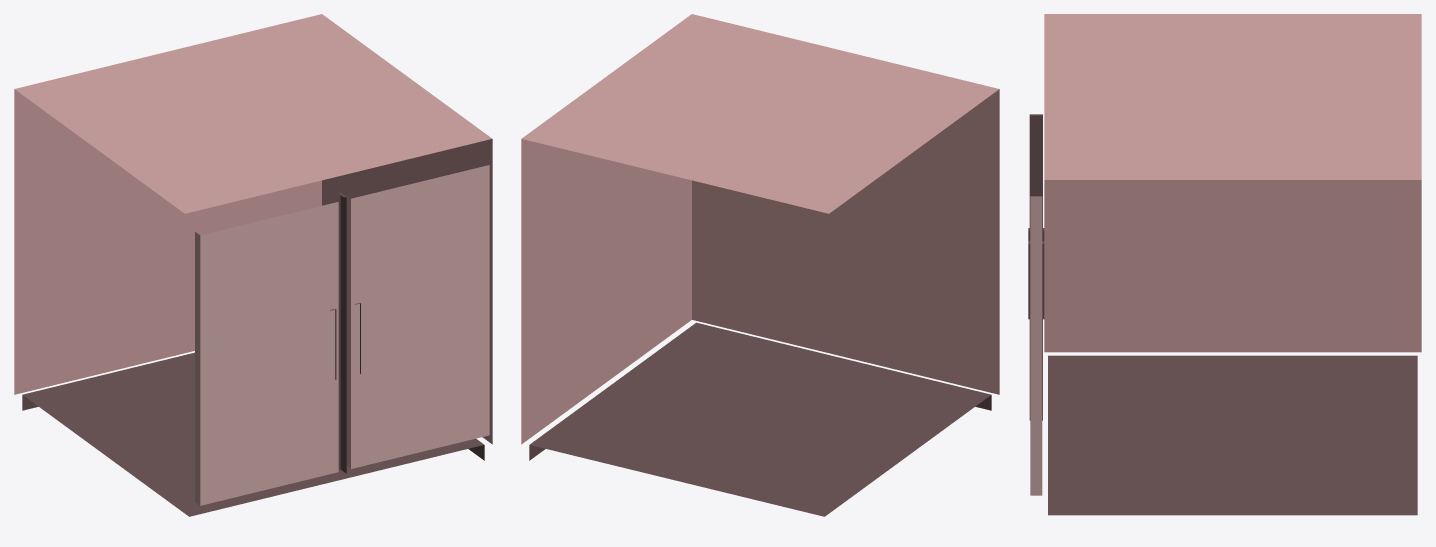
Rendered from Wardrobe-pink.glb.
3 renders of one model, left to right at view 1: azimuth 30°, elevation 25°; view 2: azimuth 150°, elevation 25°; view 3: azimuth 270°, elevation 25°, orthographic. The views are drawn at different scales.
Parts seen in each view (by area): view 1: Wardrobe; view 2: Wardrobe; view 3: Wardrobe.
Part boxes in pixels (x1,y1,x2,y2): Wardrobe: (14,14,492,516); Wardrobe: (521,14,999,516); Wardrobe: (1028,14,1421,515).
Bounding box in the file's own units: 1 × 1 × 1.
